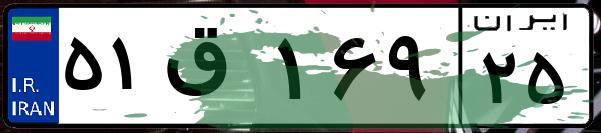1: (270, 28, 330, 110), (110, 28, 158, 98)
2: (475, 38, 525, 113)
5: (57, 26, 110, 100), (525, 38, 570, 115)
6: (330, 28, 385, 110)
9: (385, 28, 445, 110)
ق: (158, 20, 270, 120)
